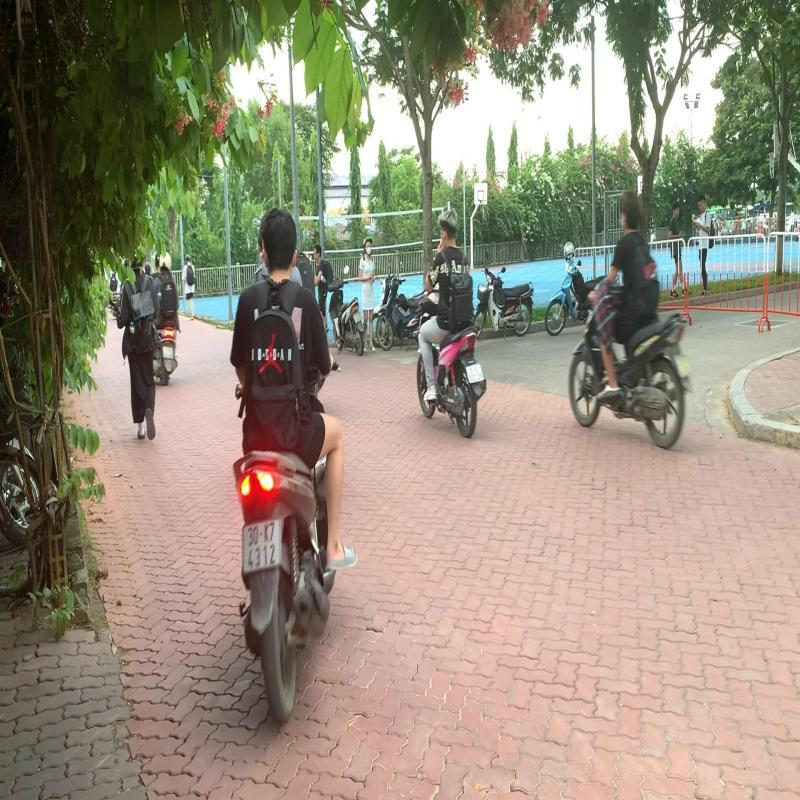nohelmet: (260, 201, 299, 276), (436, 203, 461, 243)
